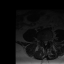CCS_normal: (44, 39, 46, 47)
LFS_severe_stenosis: (47, 39, 49, 43)
LLS_normal: (46, 39, 47, 45)
RFS_severe_stenosis: (41, 39, 43, 43)
RLS_stenosis: (43, 39, 44, 44)
